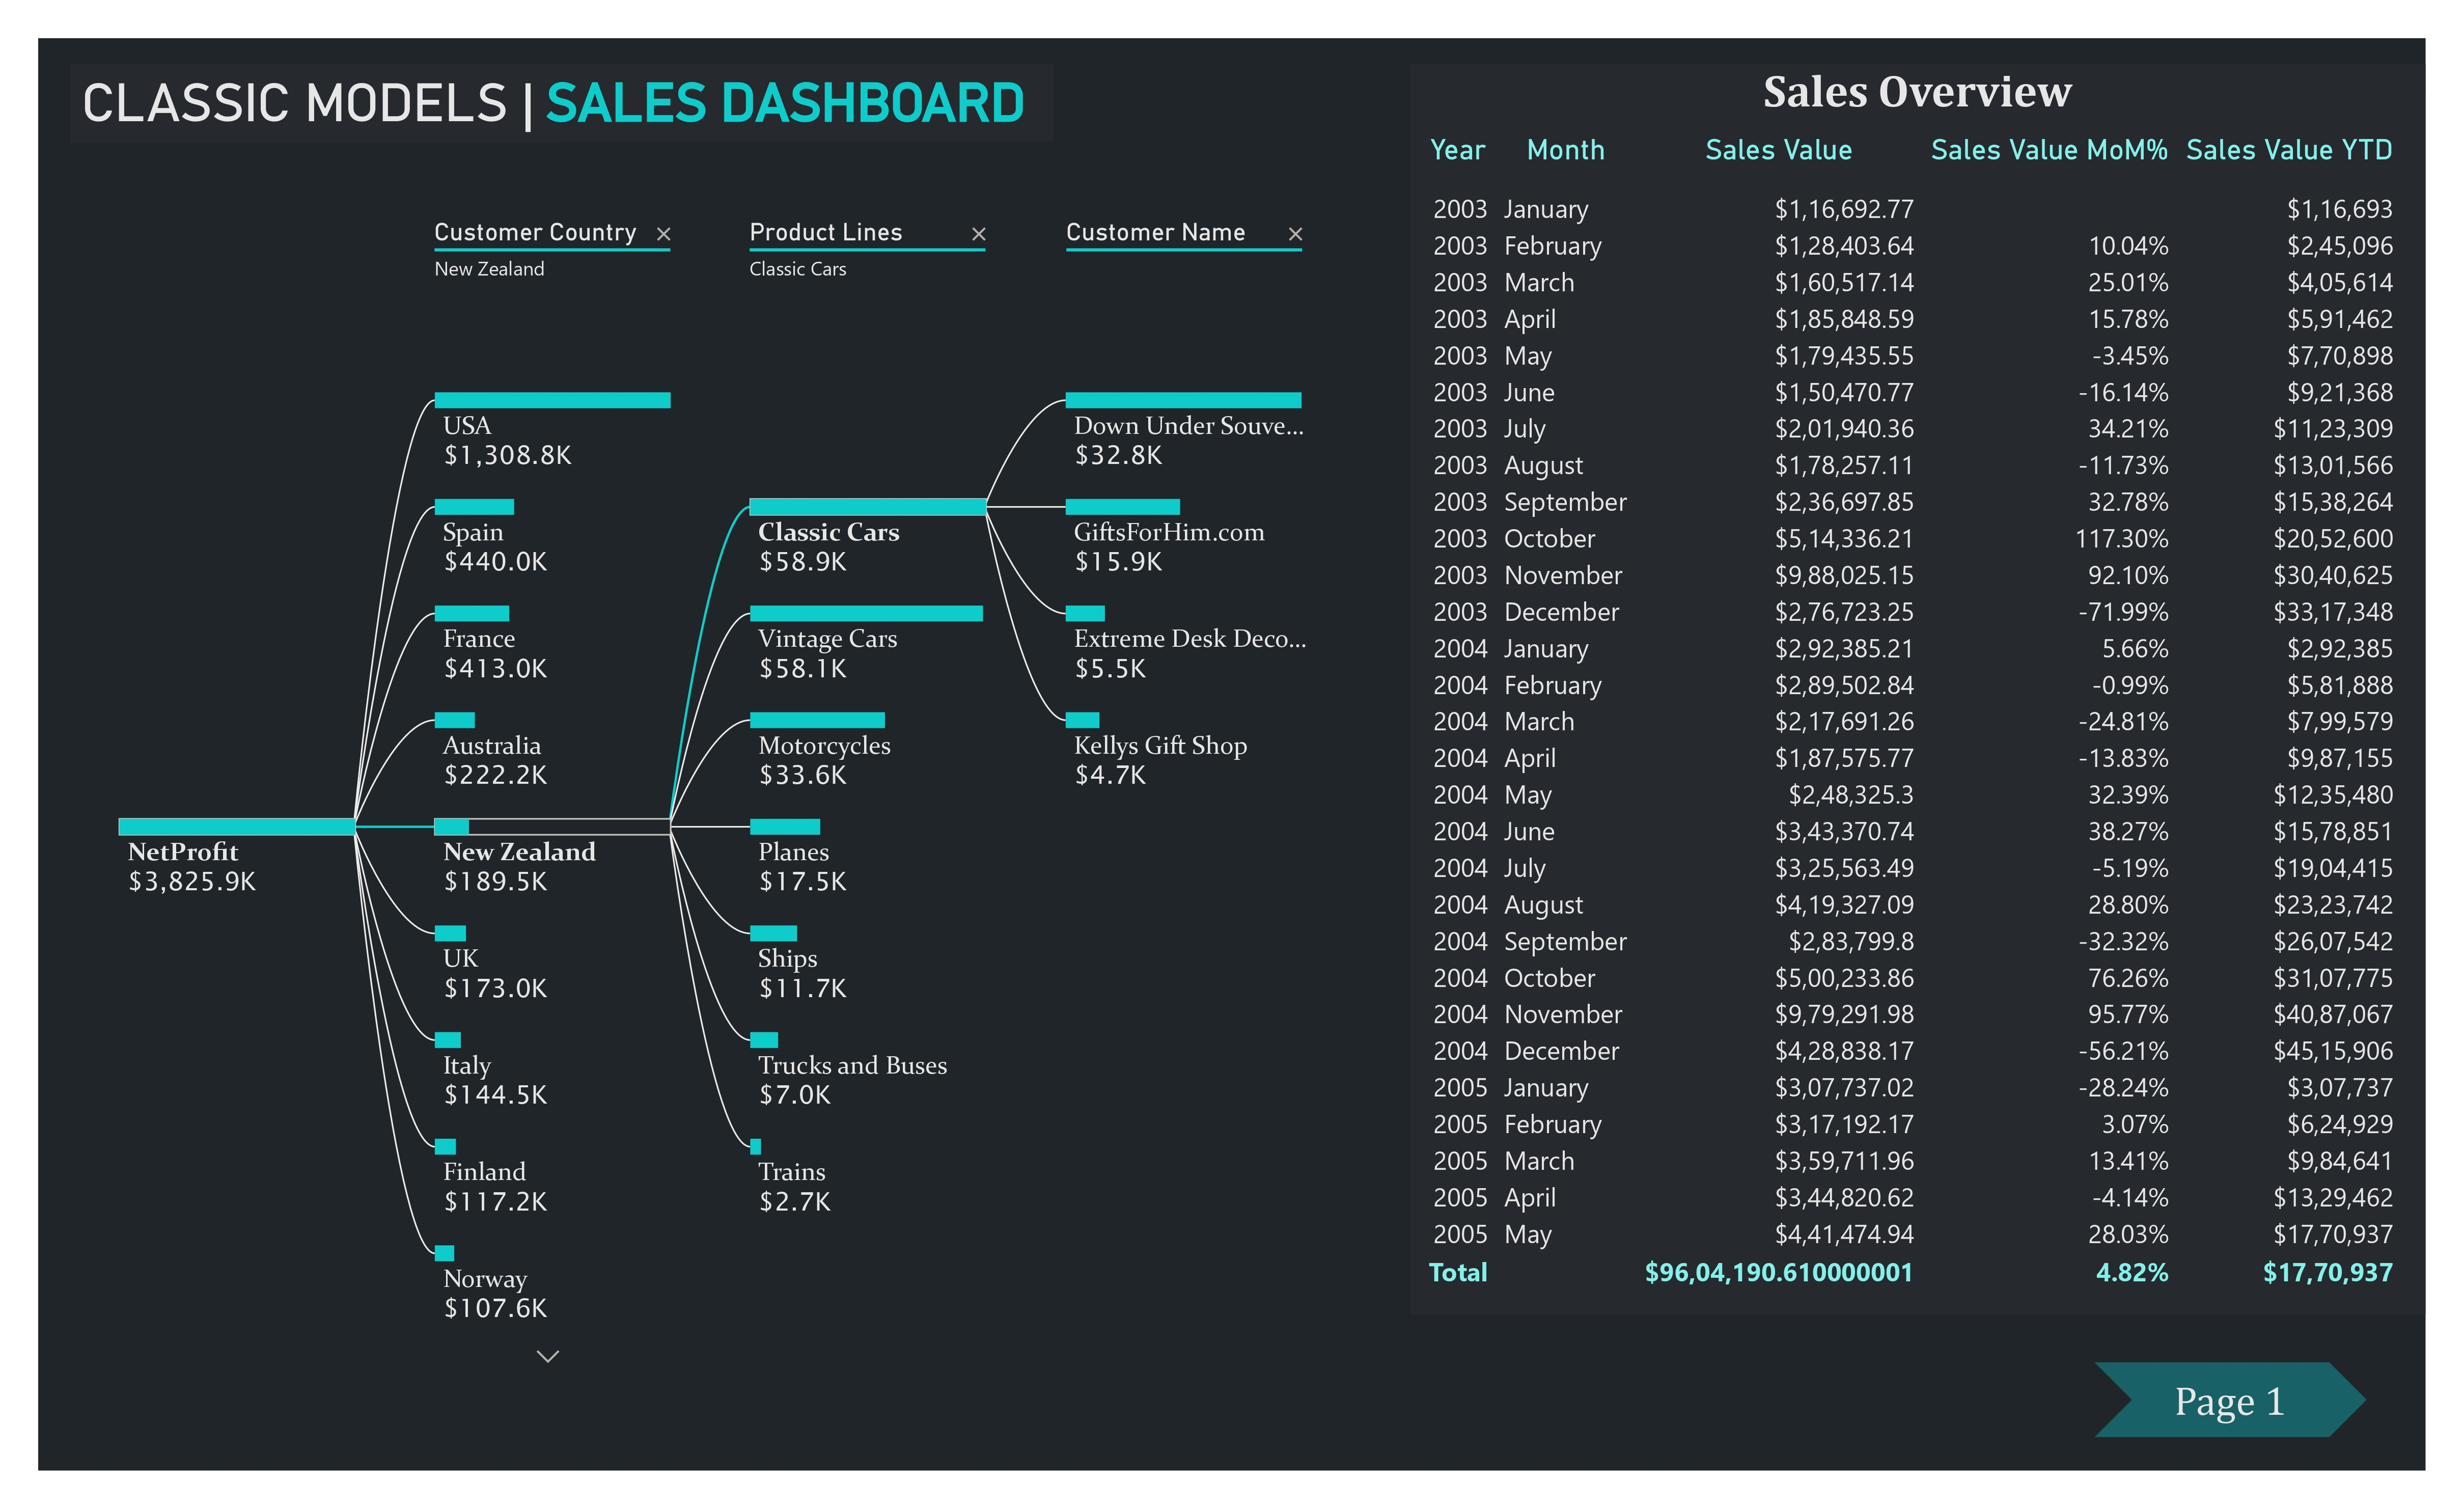

Layout of this report page (visuals, bound fields, positions):
{"tool":"powerbi","page":{"name":"Classic_Model Sales 2","canvas":[1500,900],"ordinal":1},"visuals":[{"type":"decompositionTreeVisual","fields":{"Analyze":["classicmodels_sales.NetProfit"],"ExplainBy":["classicmodels_sales.customer_country","classicmodels_sales.productLine","classicmodels_sales.customerName"]},"box":[20.6,96.8,827,782.5],"z":1000},{"type":"tableEx","title":"Sales Overview","fields":{"Values":["classicmodels_sales.orderDate.Variation.Date Hierarchy.Year","classicmodels_sales.orderDate.Variation.Date Hierarchy.Month","Sum(classicmodels_sales.sales_value)","classicmodels_sales.sales_value MoM%","classicmodels_sales.sales_value YTD"]},"box":[861.9,15.9,638.1,785.7],"z":3000},{"type":"actionButton","box":[1292.1,831.7,171.4,47.6],"z":4000},{"type":"group","id":"g1","title":"Group 1","box":[20,15.7,618.1,50],"z":4001},{"type":"textbox","box":[20,15.7,307.1,50],"z":18000,"group":"g1"},{"type":"textbox","box":[314.3,15.9,323.8,49.2],"z":19000,"group":"g1"}]}

Visuals, with their boxes in screenshot pixels (x1, y1, x2, y2):
decompositionTreeVisual - classicmodels_sales.NetProfit x classicmodels_sales.customer_country: 71, 193, 1388, 1438
"Sales Overview" tableEx: 1410, 64, 2426, 1314
actionButton: 2095, 1362, 2368, 1438
"Group 1" group: 70, 63, 1054, 143
textbox: 70, 63, 559, 143
textbox: 539, 64, 1054, 142
